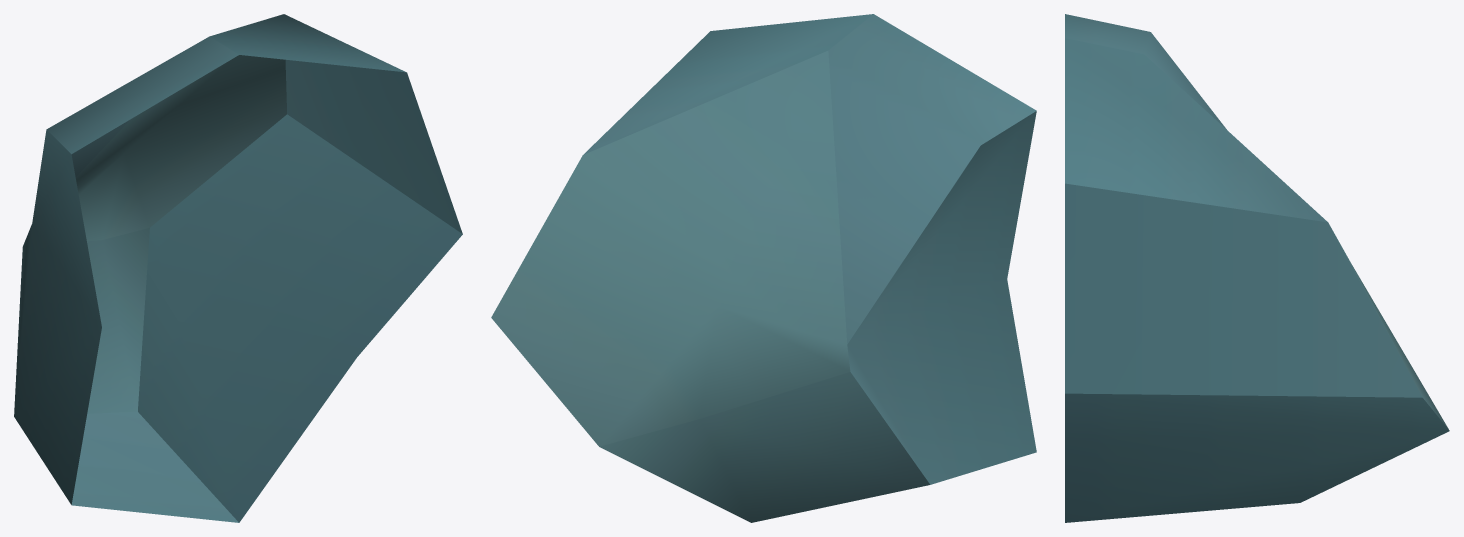
File: Ruin 08.FBX
The picture shows the model from 3 angles, left to right: view 1: azimuth 30°, elevation 25°; view 2: azimuth 150°, elevation 25°; view 3: azimuth 270°, elevation 25°; orthographic projection. The views are drawn at different scales.
Parts seen in each view (by area): view 1: Ruin 08; view 2: Ruin 08; view 3: Ruin 08.
Boxes of the visible parts, box(x1,y1,x2,y2) form: Ruin 08: box(14, 14, 462, 522); Ruin 08: box(491, 14, 1036, 522); Ruin 08: box(1065, 14, 1449, 522).
Size of the model in its own units: 45.79 by 52.33 by 37.64.
Materials: 1 (1 with a texture image).
